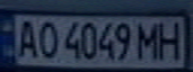0: (78, 19, 100, 61)
4: (97, 19, 118, 61), (60, 19, 81, 61)
9: (112, 19, 136, 61)
A: (12, 17, 42, 60)
H: (154, 18, 187, 61)
M: (133, 19, 163, 61)
O: (33, 18, 60, 60)
